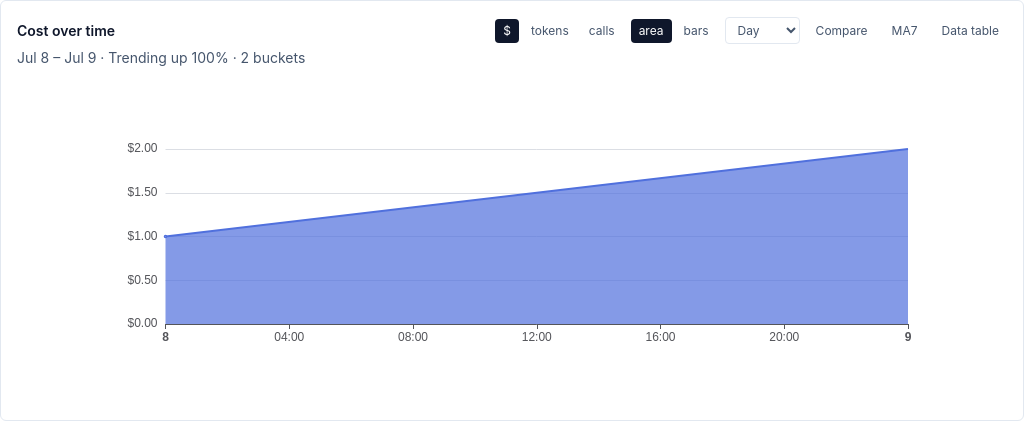
Test: ChartCard — tokens composition (#122) › disables Compare in tokens mode instead of leaving it inert
Expected: the button "Compare" is enabled, top-left (808, 18), bottom-right (876, 42)
Click the button "tokens" at (550, 30), box top-left (523, 18), bottom-right (577, 42)
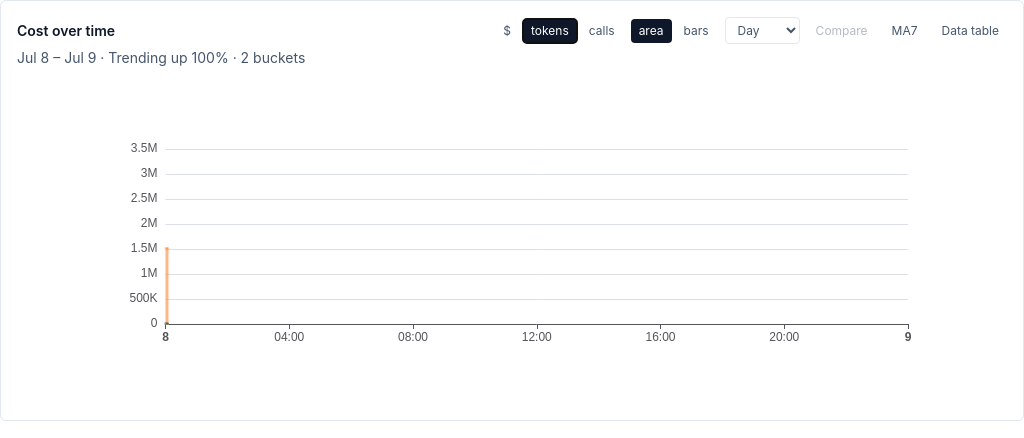
Now the button "Compare" is disabled, box top-left (808, 18), bottom-right (876, 42)
